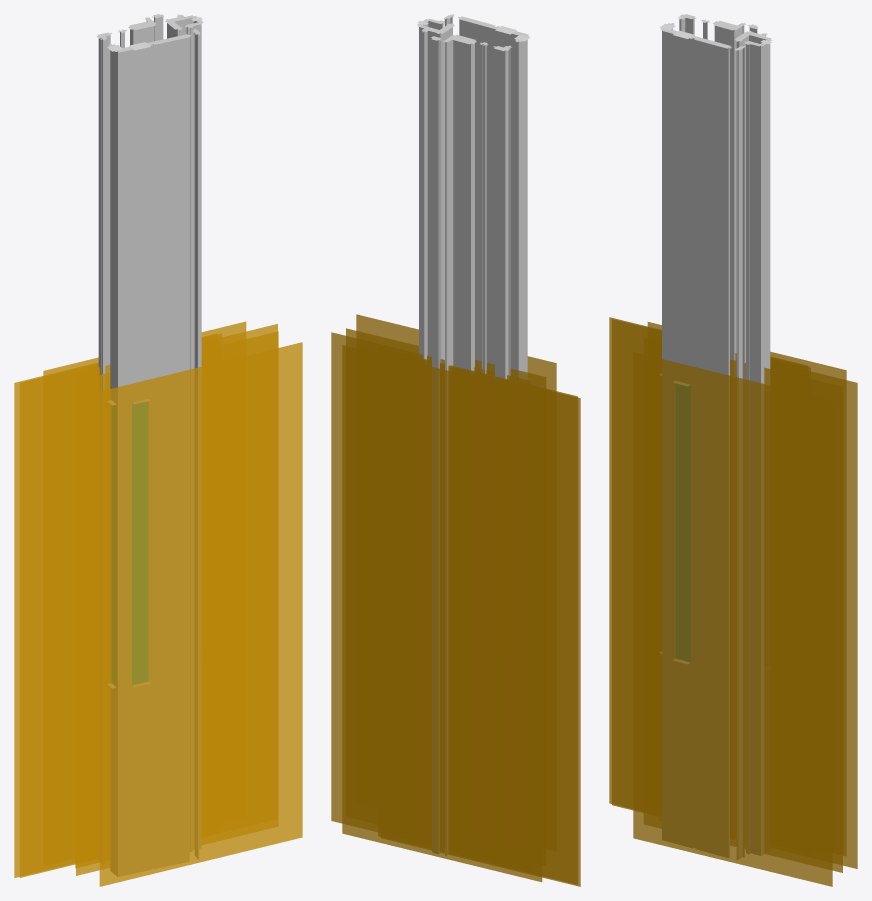
File: d0e30f71-697e-4e30-8d47-bbf7a47272e6.glb
3 renders of one model, left to right at view 1: azimuth 30°, elevation 25°; view 2: azimuth 150°, elevation 25°; view 3: azimuth 330°, elevation 25°, orthographic.
Visible parts, largest first — view 1: doors, walls, windows, roof; view 2: doors, walls, roof; view 3: doors, walls, windows, roof.
Boxes of the visible parts, x1,y1,x2,y2 form: doors: [14, 321, 302, 886]; walls: [98, 17, 202, 876]; windows: [112, 402, 147, 686]; roof: [96, 14, 203, 52]; doors: [331, 314, 580, 886]; walls: [417, 16, 530, 855]; roof: [417, 14, 529, 51]; doors: [609, 317, 857, 886]; walls: [659, 18, 771, 859]; windows: [676, 384, 689, 661]; roof: [660, 14, 771, 50].
Bounding box in the file's own units: 1.15 × 3.5 × 0.2714.
